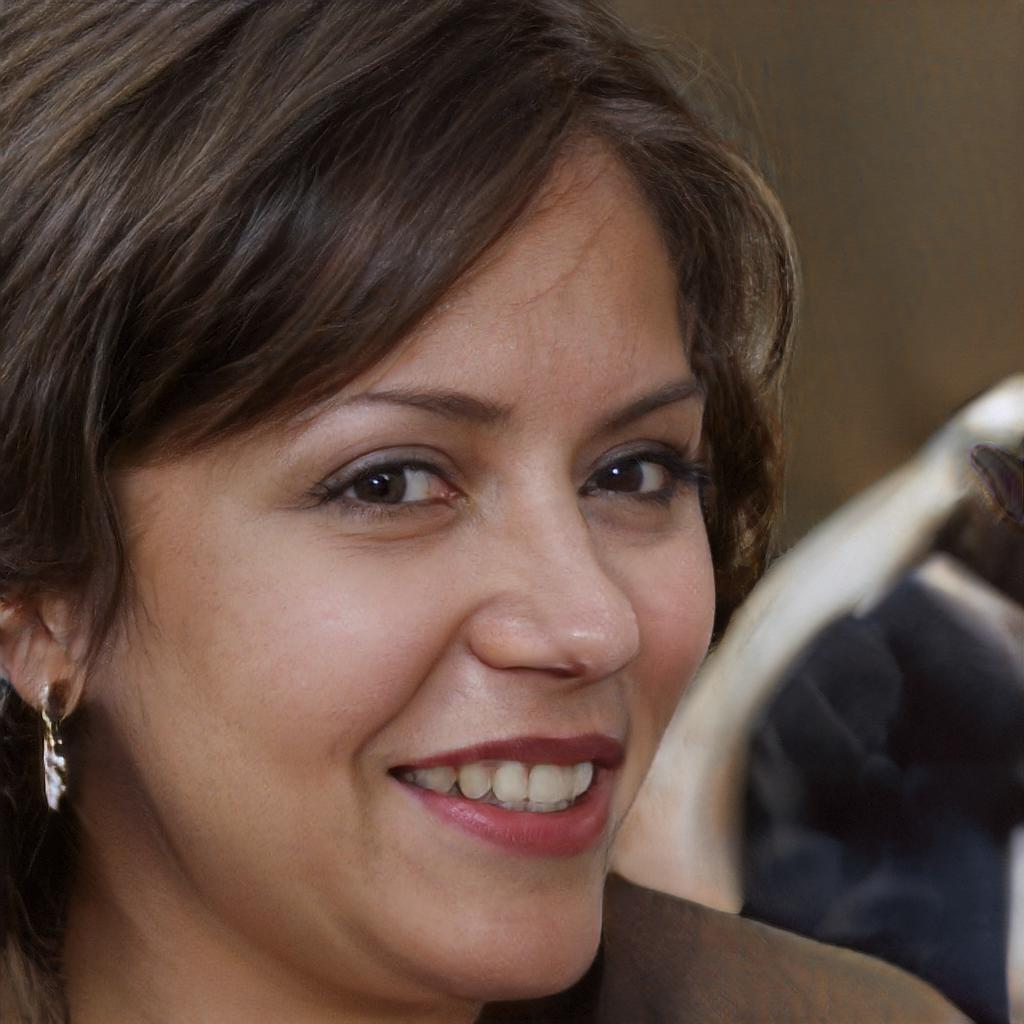face: (106, 147, 716, 1002)
